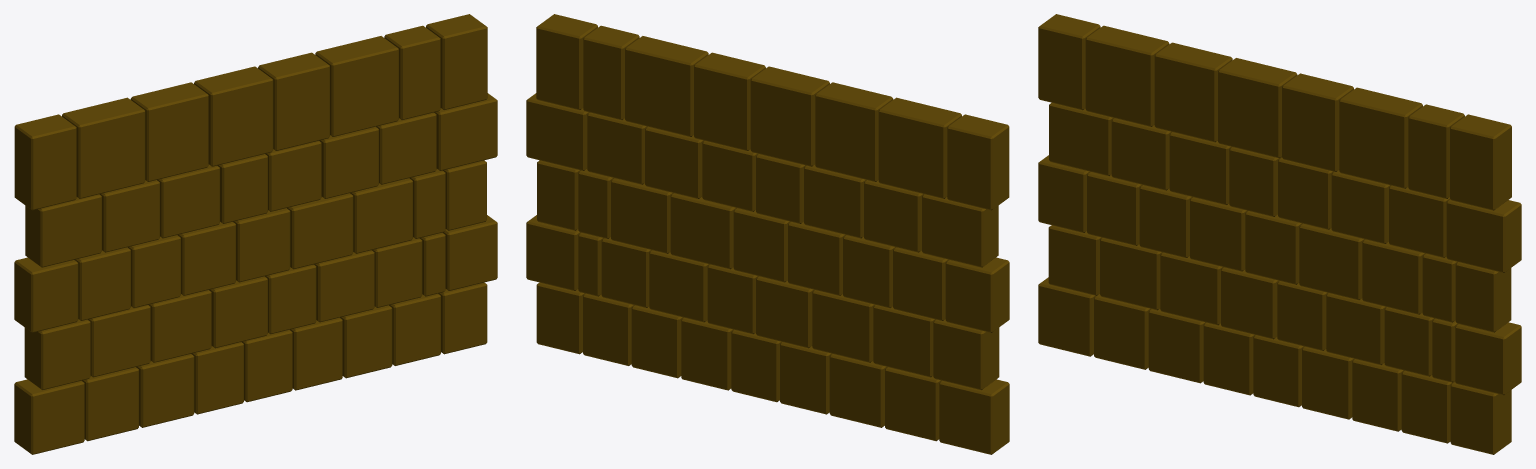
File: Wall.fbx
3 renders of one model, left to right at view 1: azimuth 30°, elevation 25°; view 2: azimuth 150°, elevation 25°; view 3: azimuth 330°, elevation 25°, orthographic.
Parts seen in each view (by area): view 1: Wall.001; view 2: Wall.001; view 3: Wall.001.
Part boxes in pixels (<box>): Wall.001: <box>14,14,497,454</box>; Wall.001: <box>526,14,1009,454</box>; Wall.001: <box>1038,14,1521,454</box>.
Bounding box in the file's own units: 3056 × 1990 × 209.
